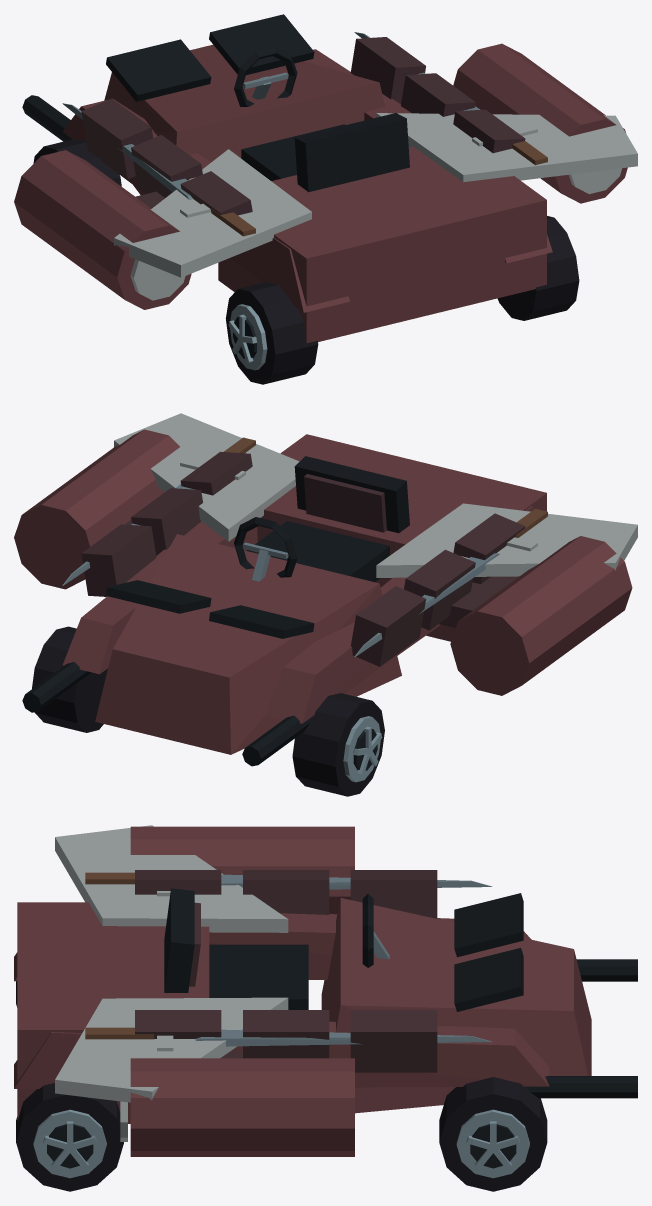
Rendered from kart.glb.
3 views of the same model, one above another, from view 1: azimuth 30°, elevation 25°; view 2: azimuth 150°, elevation 25°; view 3: azimuth 270°, elevation 25° (orthographic). The views are drawn at different scales.
Parts seen in each view (by area): view 1: identity-gunship-gunship-armored-cargo-fuselage, identity-gunship-motif-wings, identity-gunship-motif-armor, identity-gunship-driver-cockpit, wheel-rear-left, wheel-rear-right, identity-gunship-motif-swords, wheel-front-left; view 2: identity-gunship-gunship-armored-cargo-fuselage, identity-gunship-motif-armor, identity-gunship-motif-wings, identity-gunship-driver-cockpit, wheel-front-left, wheel-front-right, identity-gunship-motif-swords; view 3: identity-gunship-gunship-armored-cargo-fuselage, identity-gunship-motif-armor, identity-gunship-motif-wings, identity-gunship-driver-cockpit, wheel-front-right, wheel-rear-right, identity-gunship-motif-swords.
Boxes of the visible parts, x1=… form: identity-gunship-gunship-armored-cargo-fuselage: x1=14, y1=14, x2=627, y2=343; identity-gunship-motif-wings: x1=114, y1=113, x2=637, y2=277; identity-gunship-motif-armor: x1=81, y1=37, x2=525, y2=215; identity-gunship-driver-cockpit: x1=234, y1=47, x2=409, y2=192; wheel-rear-left: x1=225, y1=282, x2=318, y2=384; wheel-rear-right: x1=497, y1=216, x2=579, y2=320; identity-gunship-motif-swords: x1=62, y1=32, x2=547, y2=236; wheel-front-left: x1=33, y1=138, x2=121, y2=186; identity-gunship-gunship-armored-cargo-fuselage: x1=14, y1=429, x2=632, y2=766; identity-gunship-motif-armor: x1=81, y1=451, x2=525, y2=666; identity-gunship-motif-wings: x1=114, y1=413, x2=637, y2=577; identity-gunship-driver-cockpit: x1=234, y1=456, x2=409, y2=582; wheel-front-left: x1=292, y1=693, x2=384, y2=796; wheel-front-right: x1=32, y1=626, x2=107, y2=732; identity-gunship-motif-swords: x1=62, y1=437, x2=547, y2=656; identity-gunship-gunship-armored-cargo-fuselage: x1=14, y1=826, x2=637, y2=1156; identity-gunship-motif-armor: x1=135, y1=870, x2=437, y2=1072; identity-gunship-motif-wings: x1=55, y1=825, x2=288, y2=1102; identity-gunship-driver-cockpit: x1=164, y1=888, x2=389, y2=1009; wheel-front-right: x1=439, y1=1077, x2=547, y2=1191; wheel-rear-right: x1=16, y1=1083, x2=123, y2=1191; identity-gunship-motif-swords: x1=85, y1=862, x2=492, y2=1051.
Bounding box in the file's own units: 3 × 1.09 × 2.89.
